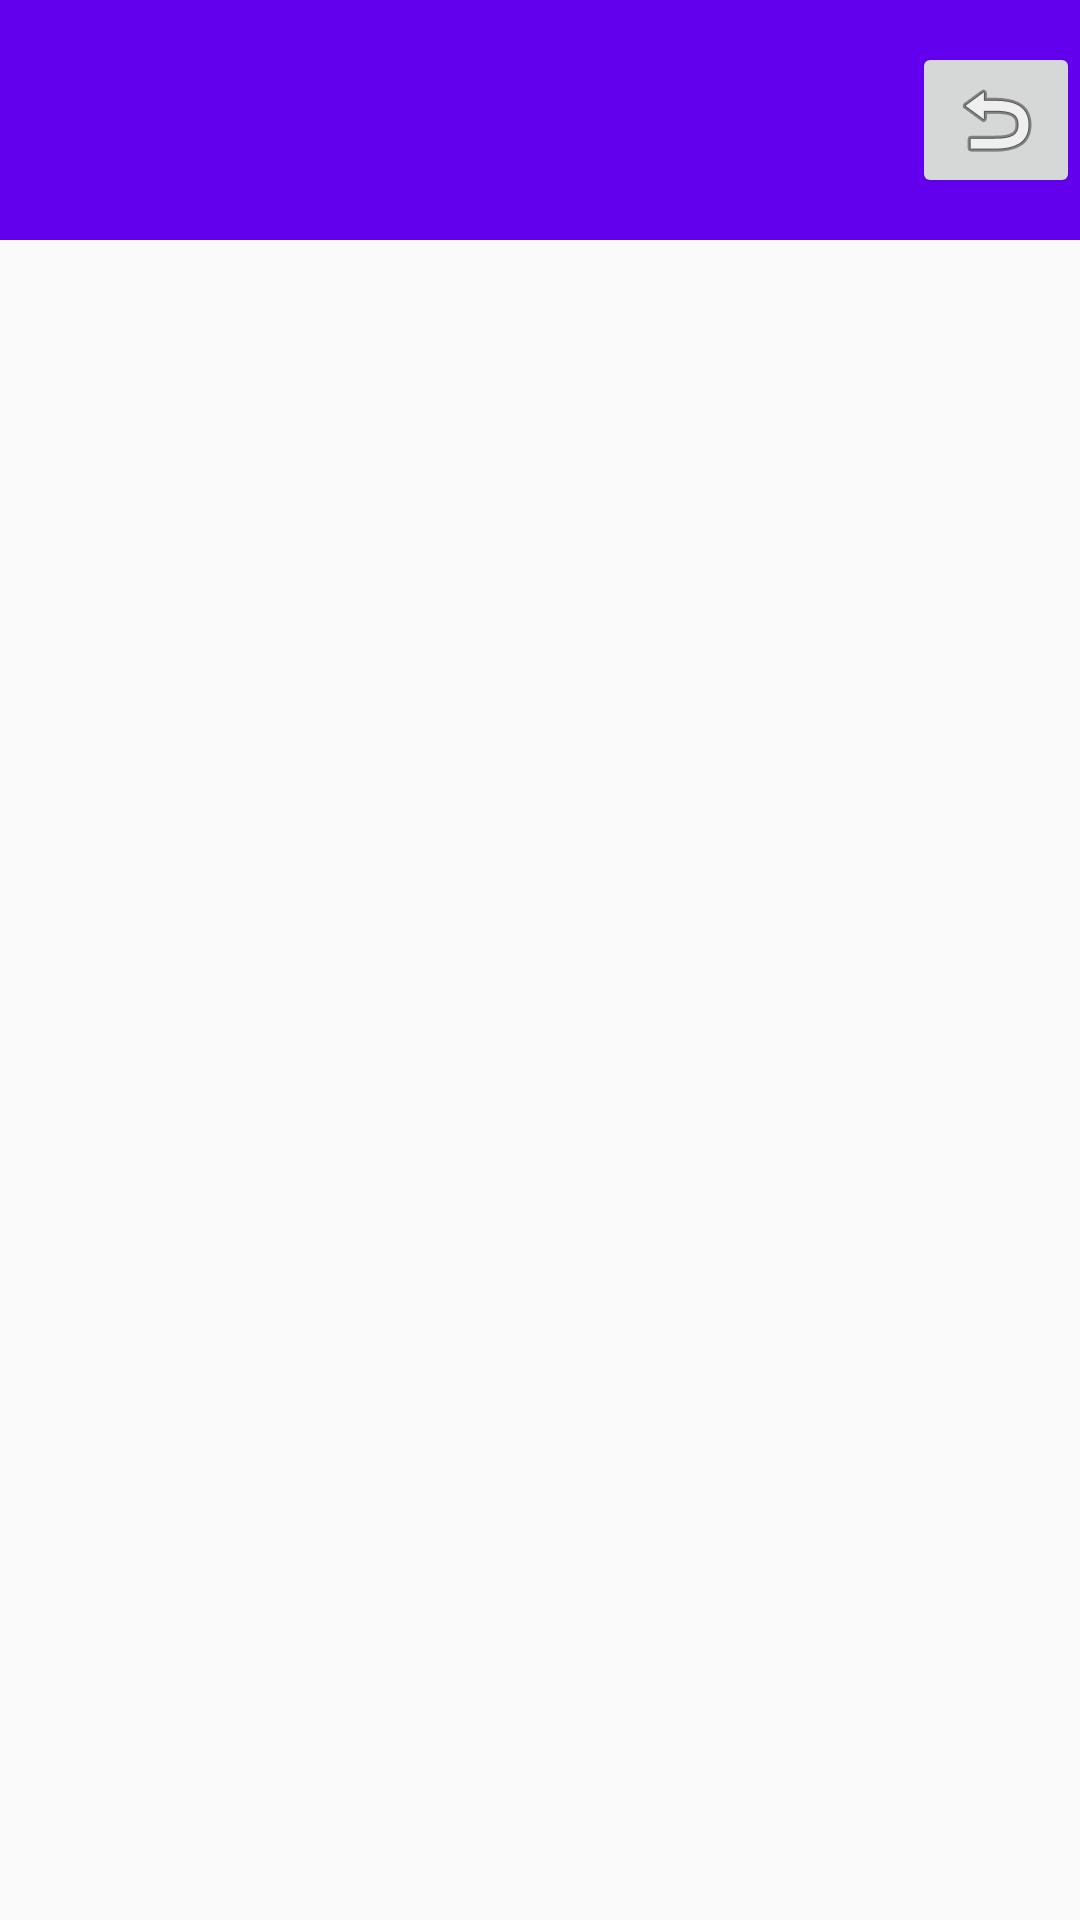

Where to tap for icons on this 1080 × 1920 app screen, as (x=x, y=y):
revert: (x=996, y=120)
